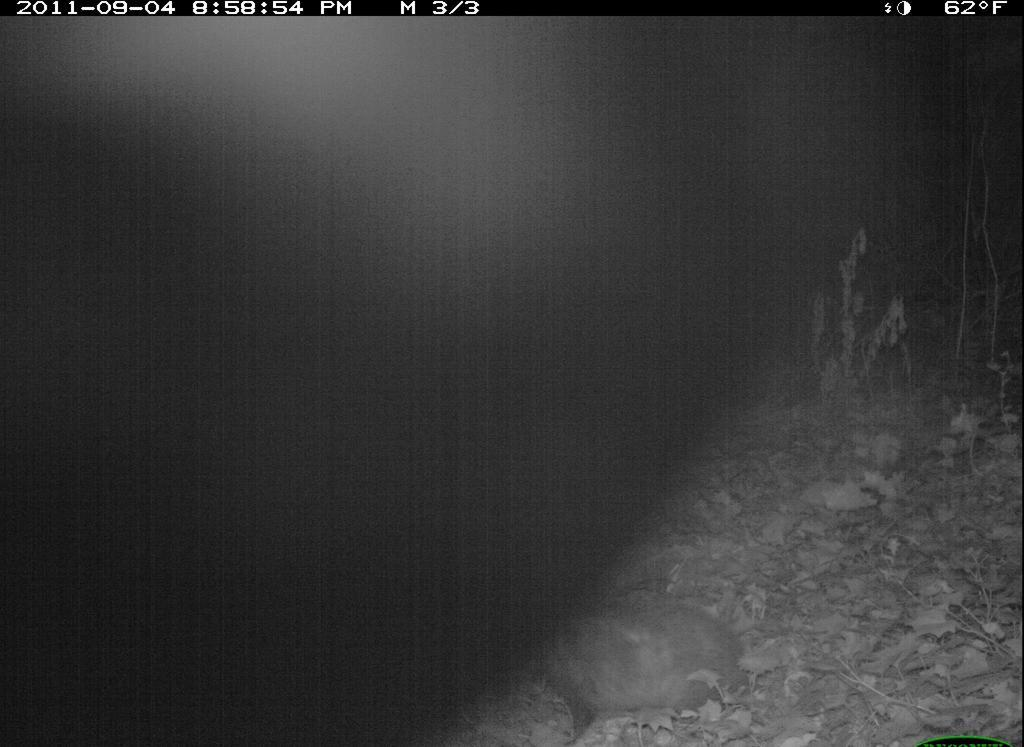opossum: (516, 577, 760, 743)
